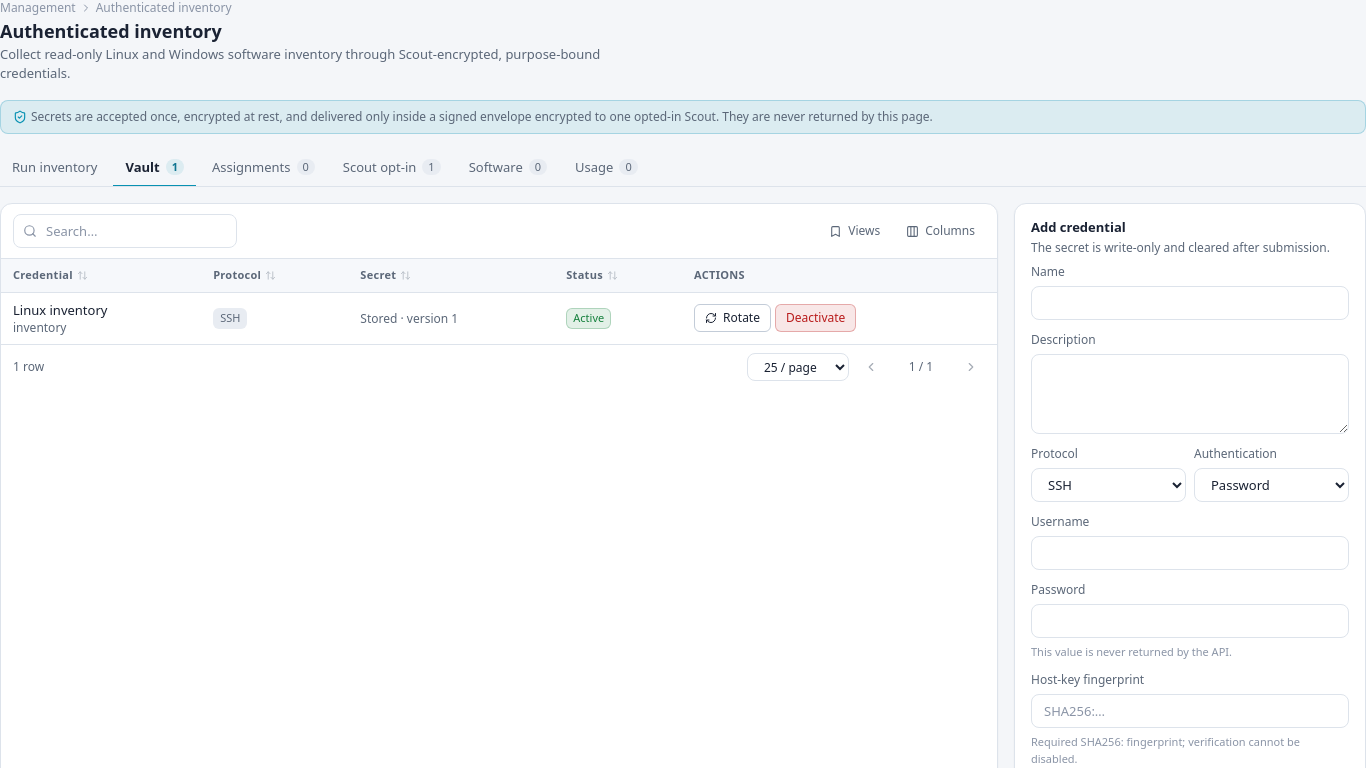
Scenario: shows only secret metadata and clears the one-way secret after creation
Expected: the text "Linux inventory" is shown, left=13, top=300, right=107, bottom=318
Expected: the text "Stored · version 1" is shown, left=360, top=310, right=458, bottom=326
Type "New credential" into the field labelled "Name" at (1190, 302), box left=1031, top=286, right=1349, bottom=320
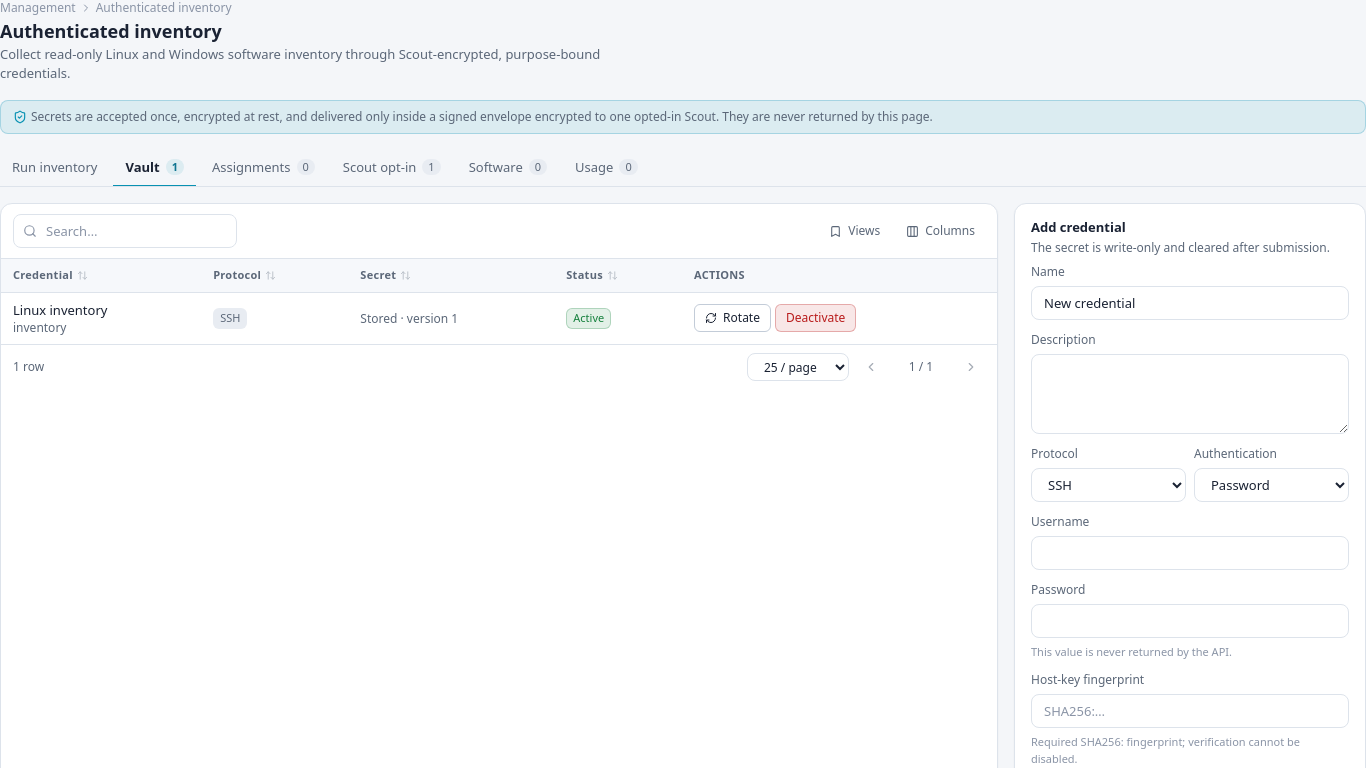
Type "scanner" into the field labelled "Username" at (1190, 552), box left=1031, top=536, right=1349, bottom=570
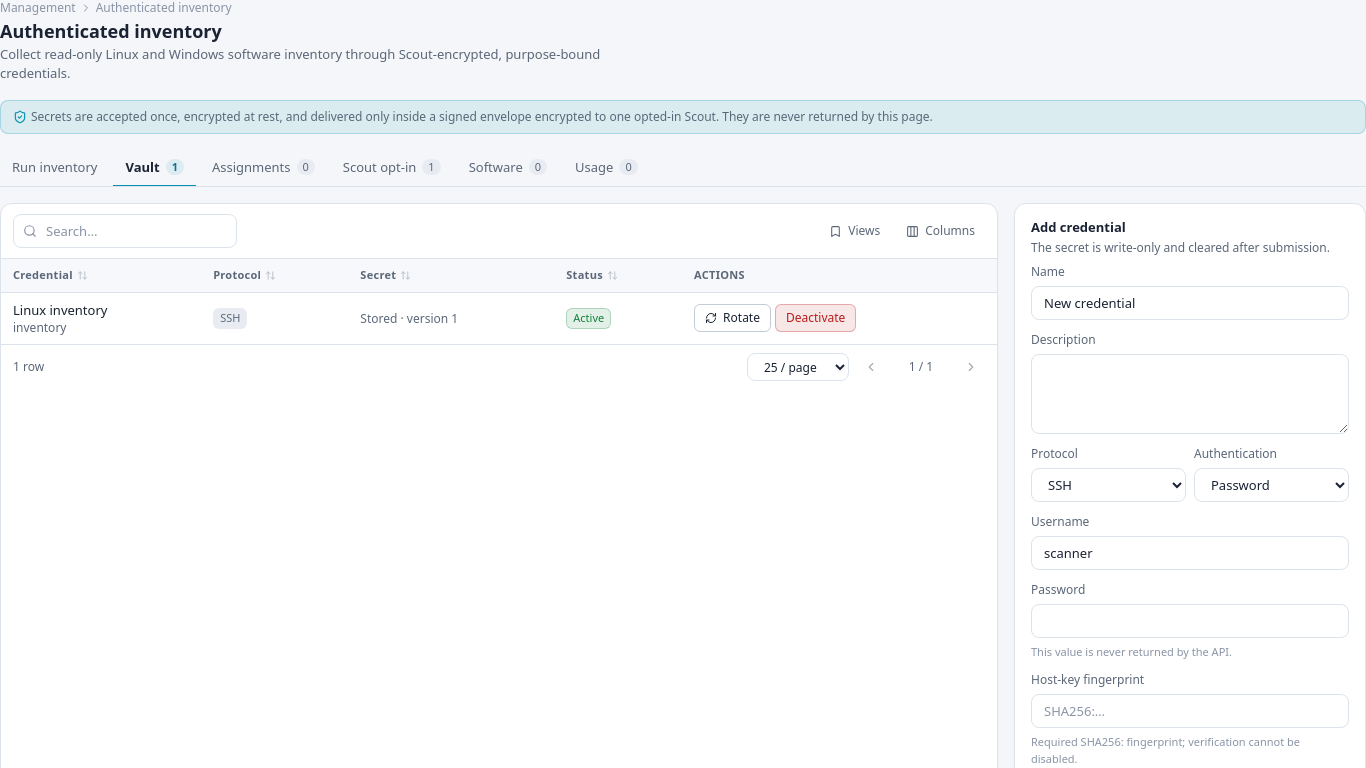
Type "one-way-secret" into the password field labelled "Password" at (1190, 620), box left=1031, top=604, right=1349, bottom=638
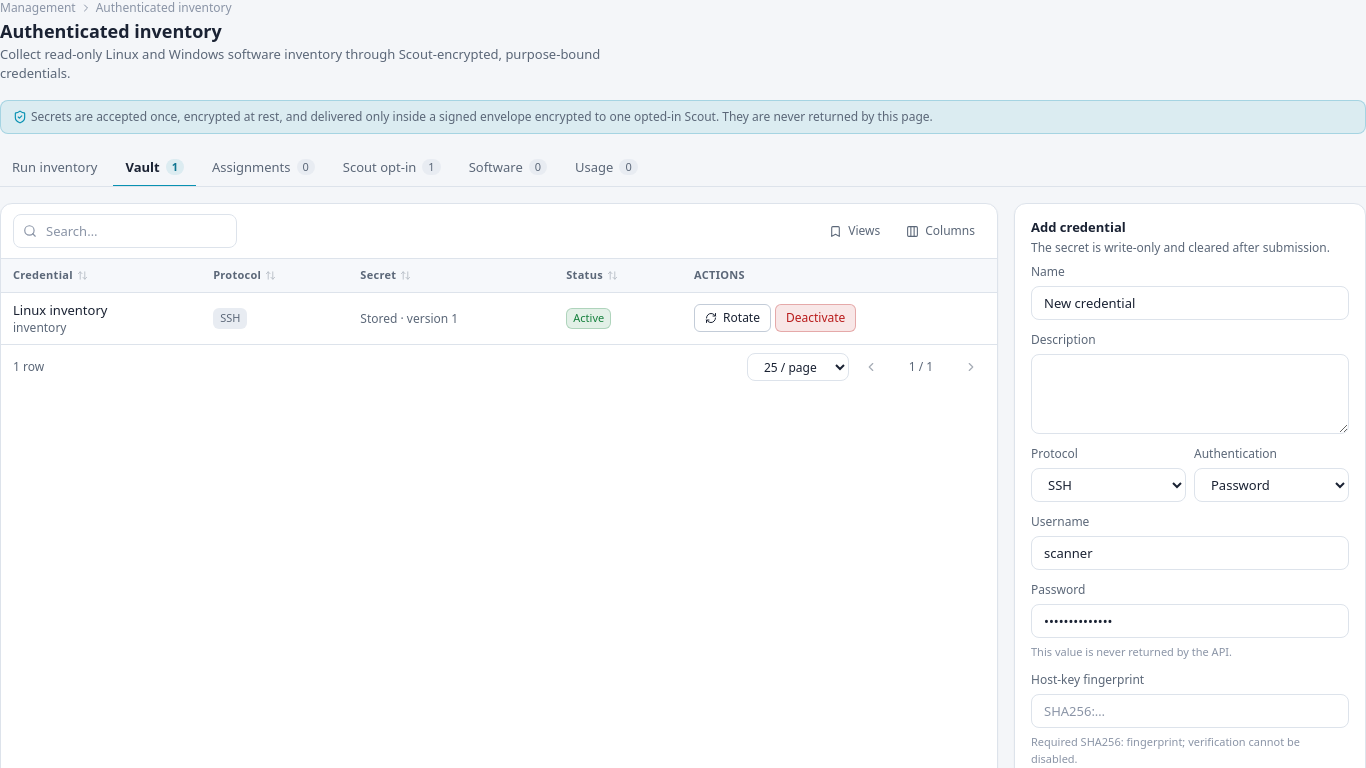
Type "SHA256:AAAAAAAAAAAAAAAAAAAAAAAAAAAAAAAAAAAAAAAAAAA" into the field labelled "Host-key fingerprint" at (1190, 711), box left=1031, top=694, right=1349, bottom=728
(page scrolled)
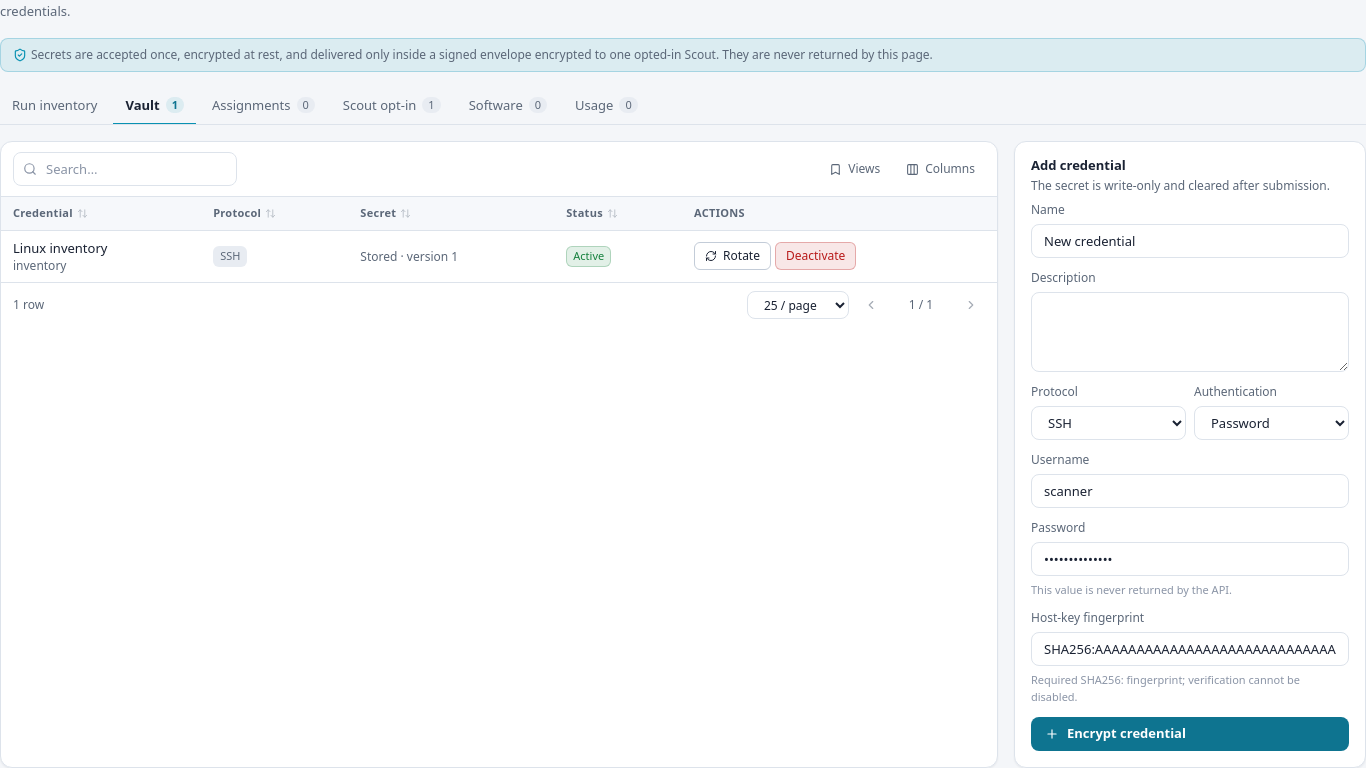
Click the button "Encrypt credential" at (1126, 733), box left=1031, top=717, right=1349, bottom=751
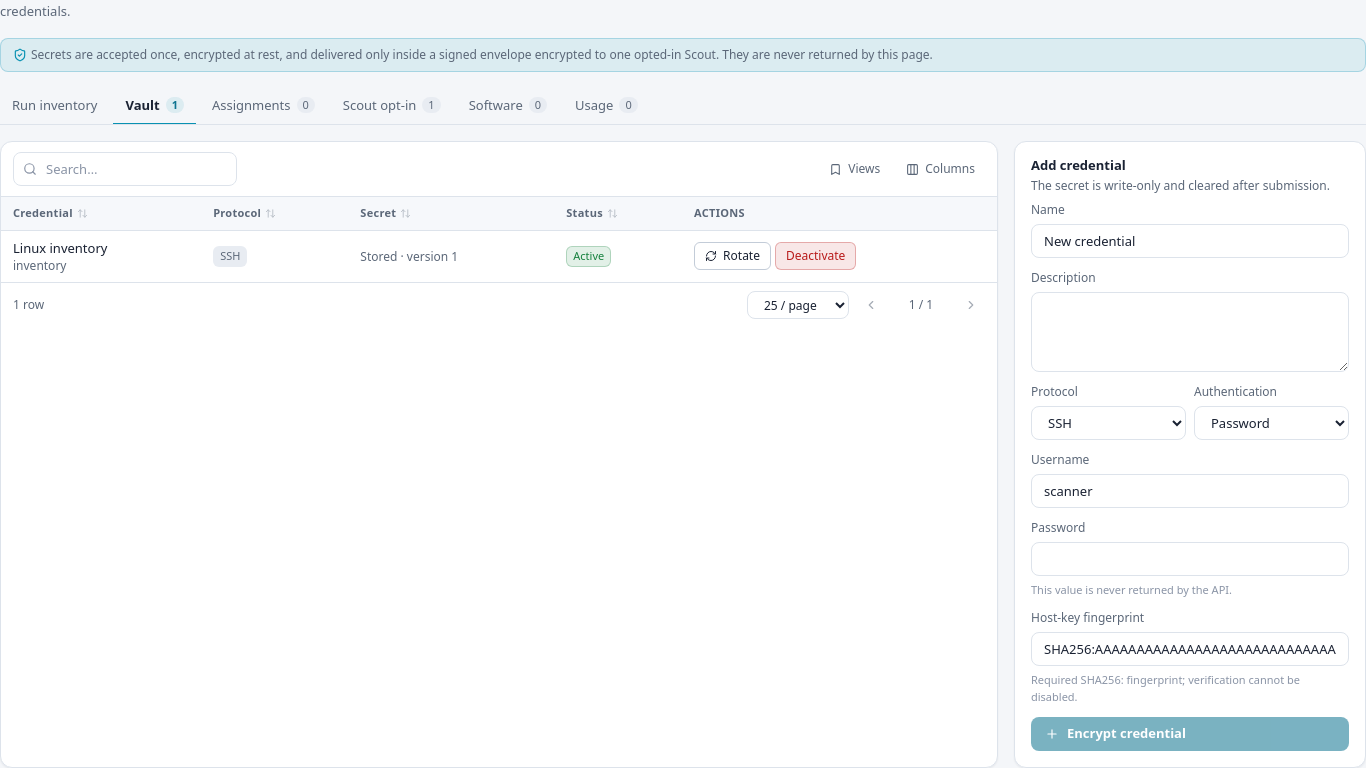
Expected: the password field labelled "Password" is empty, left=1031, top=542, right=1349, bottom=576
Click the tab "Scout opt-in 1" at (392, 106), box left=331, top=88, right=453, bottom=125
(page scrolled)
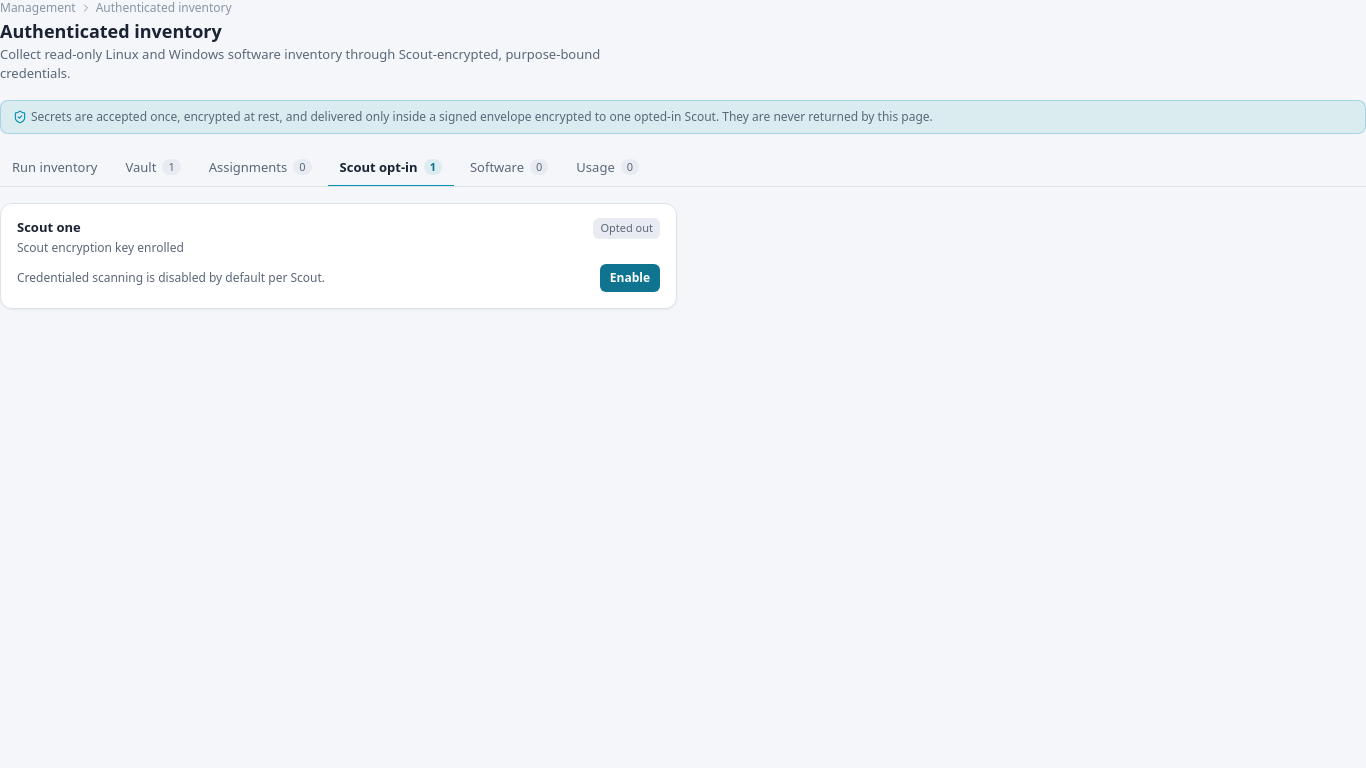
Expected: the text "Scout encryption key enrolled" is shown, left=17, top=240, right=184, bottom=256
Expected: the button "Enable" is enabled, left=600, top=264, right=660, bottom=292
